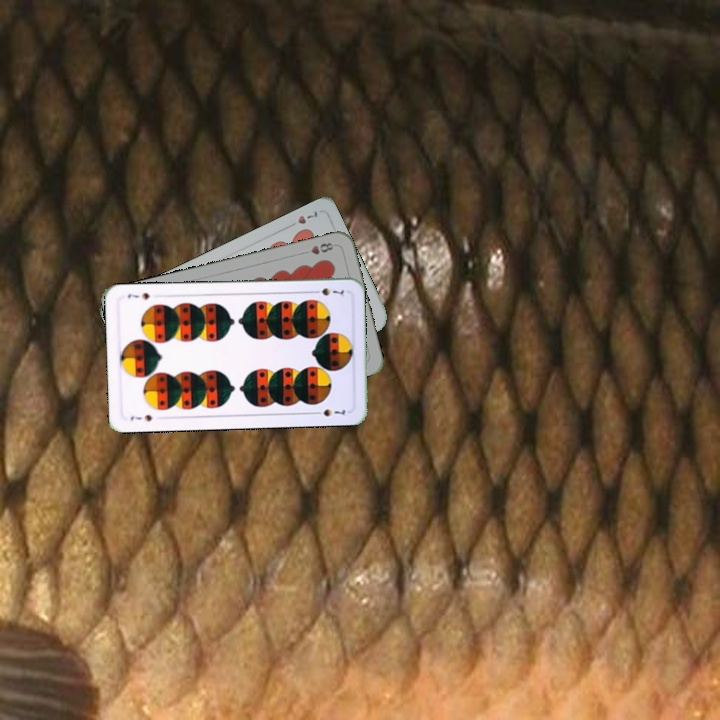H7: (293, 207, 320, 227)
H8: (298, 239, 336, 257)
S7: (308, 284, 346, 299), (127, 410, 155, 424)
